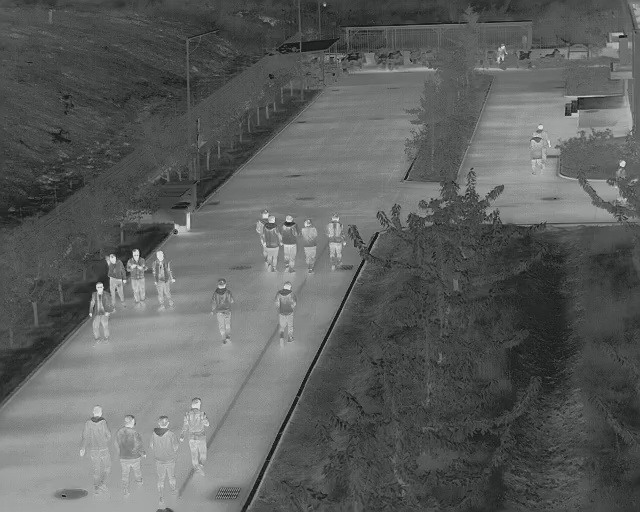NonMotorVehicle: (495, 43, 509, 71)
person: (149, 415, 181, 506), (79, 406, 111, 496), (113, 414, 148, 495), (179, 397, 210, 478), (208, 278, 234, 346), (150, 250, 177, 313), (88, 280, 113, 347), (272, 280, 296, 348), (125, 247, 151, 309), (326, 212, 347, 273), (107, 253, 128, 313), (280, 214, 300, 274), (261, 214, 281, 274), (528, 122, 550, 174), (299, 218, 319, 275)
